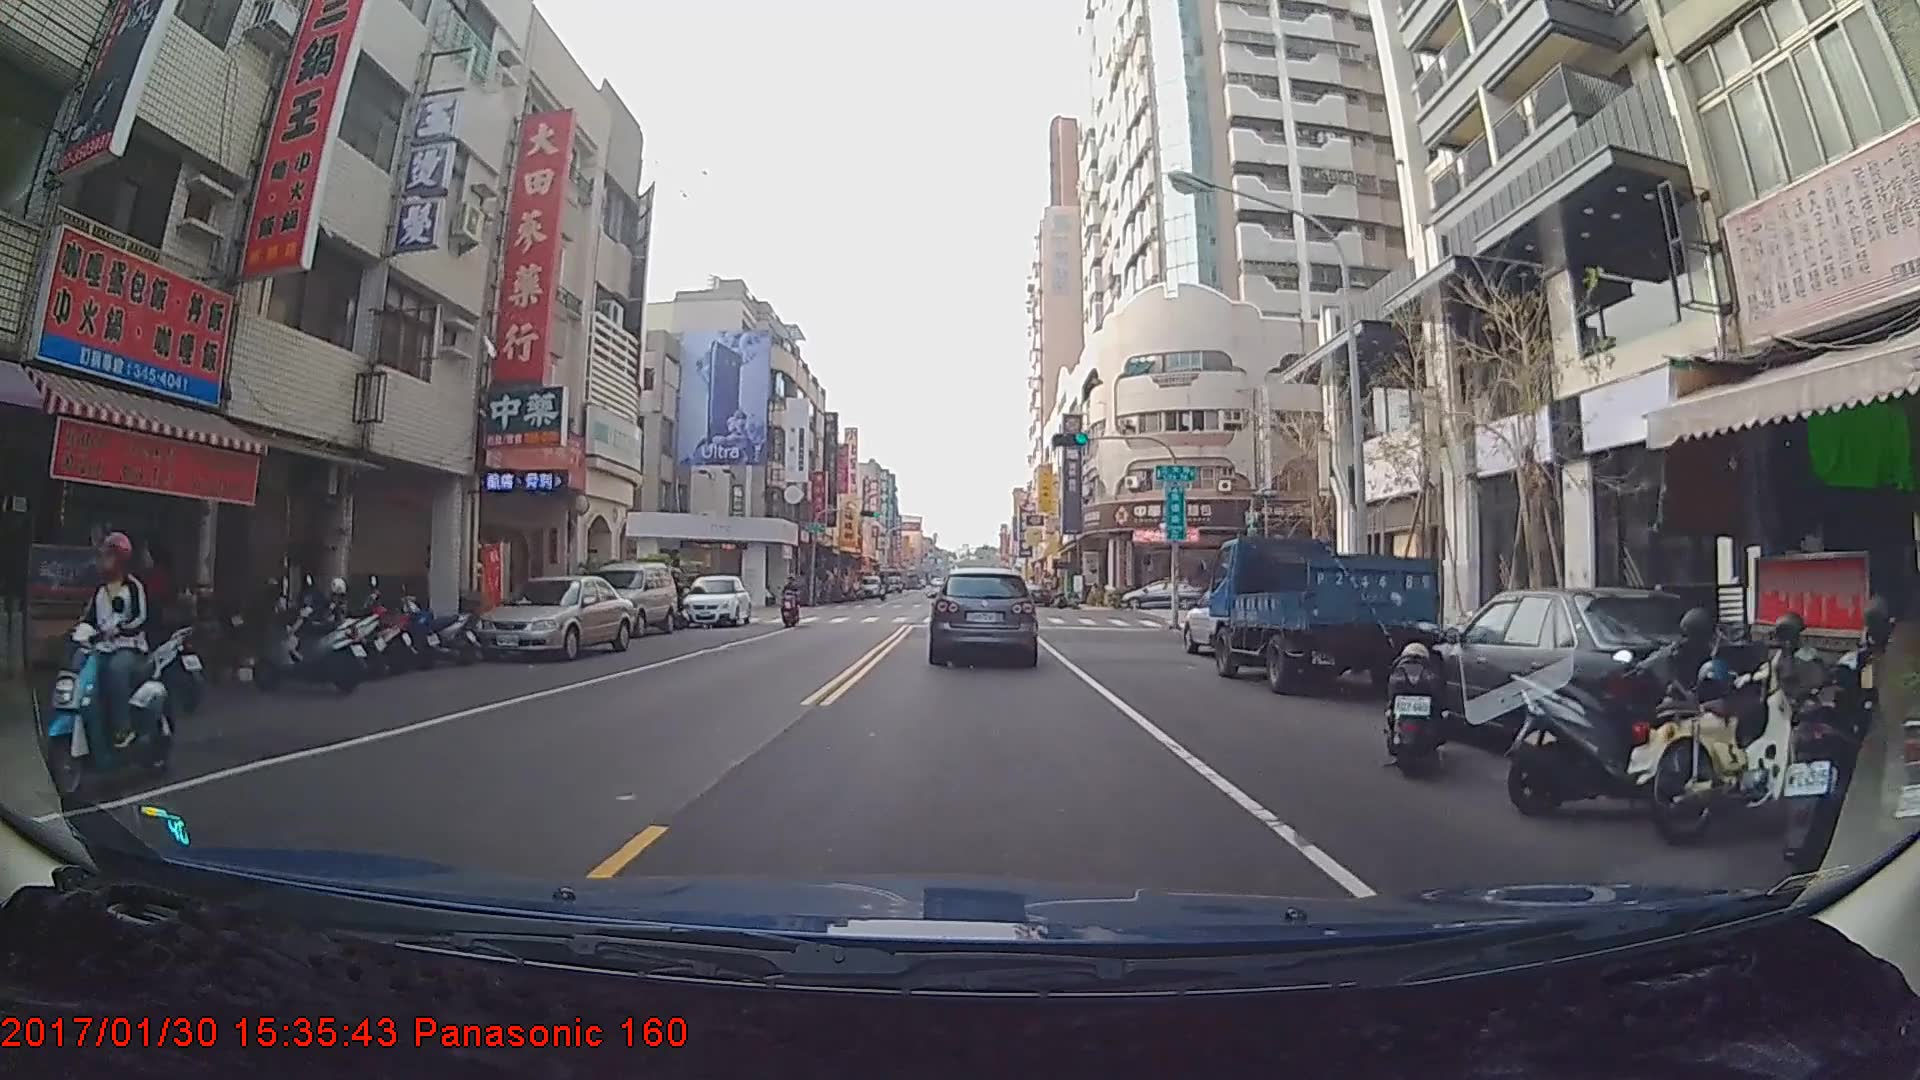rider: (41, 529, 179, 795), (781, 578, 802, 629)
vehicle: (1205, 536, 1438, 686), (470, 575, 629, 663), (928, 566, 1037, 667), (1181, 578, 1307, 661), (577, 560, 676, 641), (683, 573, 751, 628), (1121, 579, 1204, 611), (857, 575, 881, 599)
